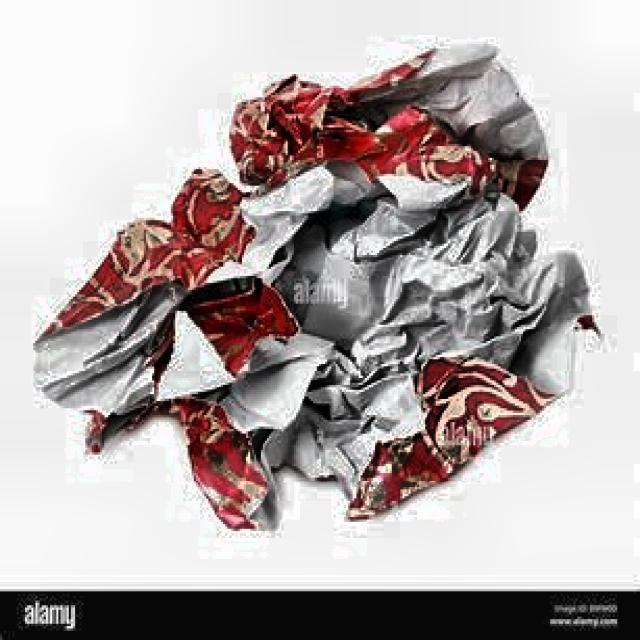Paper: (30, 38, 620, 536)
